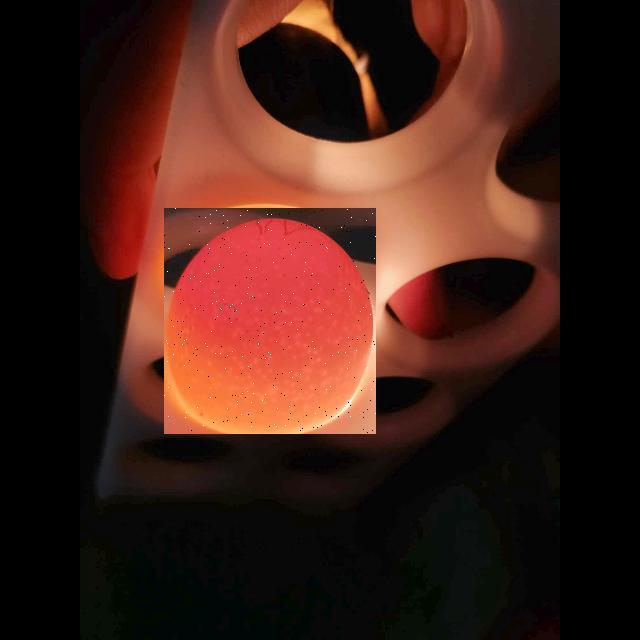Infertile: (164, 208, 376, 434)
